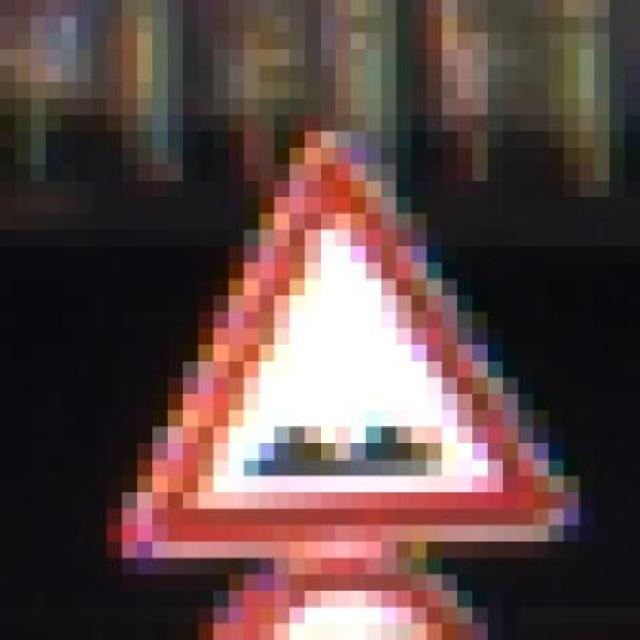Uneven Road: (107, 115, 595, 574)
